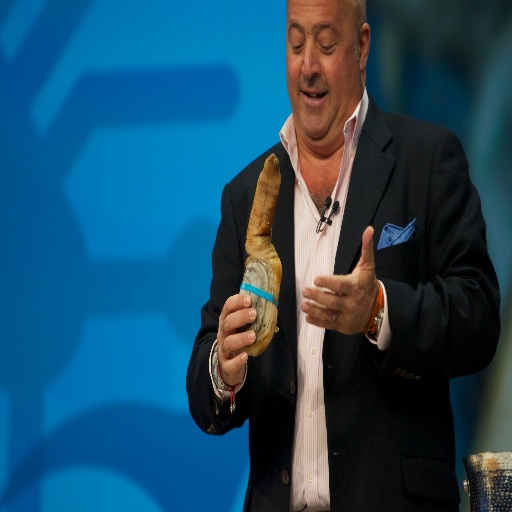hand: (304, 245, 396, 342), (214, 291, 258, 385)
